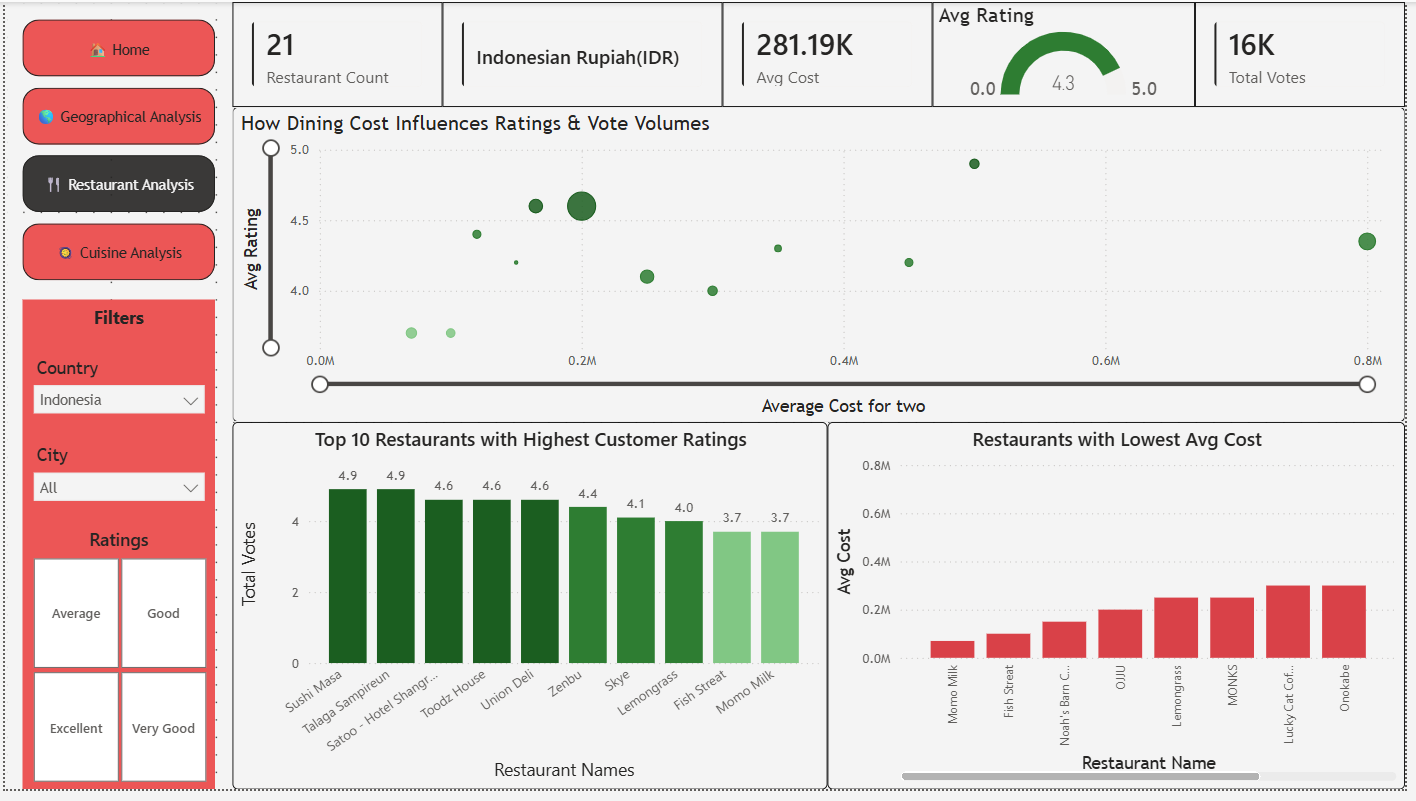

The dashboard page shown, as its layout file describes it:
{"tool":"powerbi","page":{"name":"🍴 Restaurant Analysis","canvas":[1280,720],"ordinal":2},"visuals":[{"type":"columnChart","title":"Top 10 Restaurants with Highest Customer Ratings","fields":{"Category":["Zomato All Continents.Restaurant Name"],"Y":["KPIs.Avg Rating"]},"box":[208,384,544,336],"z":0},{"type":"scatterChart","title":"How Dining Cost Influences Ratings & Vote Volumes","fields":{"Y":["KPIs.Average Rating"],"X":["KPIs.Average Cost for two"],"Size":["KPIs.Total Votes"]},"box":[208,96,1072,288],"z":1000},{"type":"cardVisual","fields":{"Data":["Min(KPIs.Currency)"]},"box":[400,0,256,96],"z":2000},{"type":"cardVisual","fields":{"Data":["KPIs.Total Votes"]},"box":[1088,0,192,96],"z":3000},{"type":"cardVisual","fields":{"Data":["KPIs.Average Cost"]},"box":[656,0,192,96],"z":4000},{"type":"gauge","fields":{"Y":["KPIs.Average Rating"]},"box":[848,0,240,96],"z":5000},{"type":"cardVisual","fields":{"Data":["KPIs.Restaurant Count"]},"box":[208,0,192,96],"z":6000},{"type":"group","id":"g1","title":"Group 1","box":[0,16,208,704],"z":7000},{"type":"pageNavigator","box":[16,16,176,240],"z":8000,"group":"g1"},{"type":"columnChart","title":"Restaurants with Lowest Avg Cost","fields":{"Category":["Zomato All Continents.Restaurant Name"],"Y":["KPIs.Avg Cost"]},"box":[752,384,528,336],"z":8000},{"type":"shape","box":[16,272,176,448],"z":9000,"group":"g1"},{"type":"textbox","box":[16,272,176,32],"z":10000,"group":"g1"},{"type":"slicer","fields":{"Values":["Zomato All Continents.Country"]},"box":[16,320,176,64],"z":11000,"group":"g1"},{"type":"slicer","fields":{"Values":["Zomato All Continents.City"]},"box":[16,400,176,64],"z":12000,"group":"g1"},{"type":"slicer","title":"Ratings","fields":{"Values":["KPIs.Rating text"]},"box":[0,480,208,240],"z":13000,"group":"g1"}]}

Visuals, with their boxes on the page's 1280x720 design canvas (x1, y1, x2, y2). These are canvas units, not pixel positions in the 1416x801 screenshot, which may show the page scaled, cropped or inside an application window:
"Top 10 Restaurants with Highest Customer Ratings" columnChart: box=[208, 384, 752, 720]
"How Dining Cost Influences Ratings & Vote Volumes" scatterChart: box=[208, 96, 1280, 384]
cardVisual - Min(KPIs.Currency): box=[400, 0, 656, 96]
cardVisual - KPIs.Total Votes: box=[1088, 0, 1280, 96]
cardVisual - KPIs.Average Cost: box=[656, 0, 848, 96]
gauge - KPIs.Average Rating: box=[848, 0, 1088, 96]
cardVisual - KPIs.Restaurant Count: box=[208, 0, 400, 96]
"Group 1" group: box=[0, 16, 208, 720]
pageNavigator: box=[16, 16, 192, 256]
"Restaurants with Lowest Avg Cost" columnChart: box=[752, 384, 1280, 720]
shape: box=[16, 272, 192, 720]
textbox: box=[16, 272, 192, 304]
slicer - Zomato All Continents.Country: box=[16, 320, 192, 384]
slicer - Zomato All Continents.City: box=[16, 400, 192, 464]
"Ratings" slicer: box=[0, 480, 208, 720]
